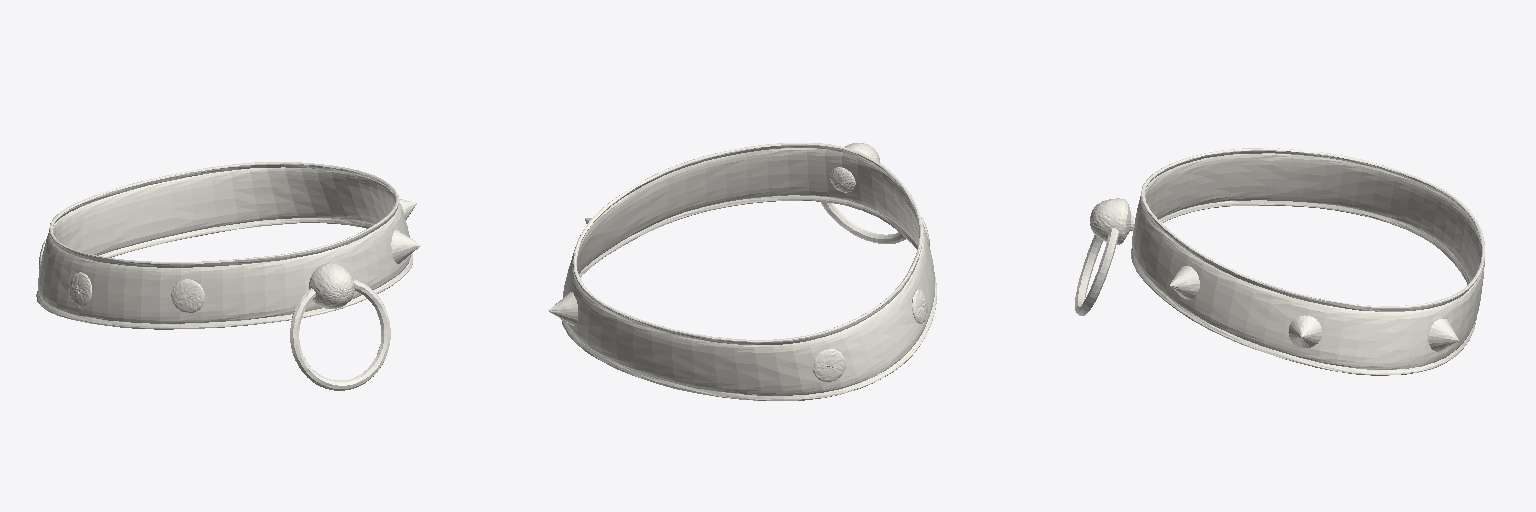
File: collar.obj
The picture shows the model from 3 angles: view 1: azimuth 30°, elevation 25°; view 2: azimuth 150°, elevation 25°; view 3: azimuth 270°, elevation 25°; orthographic projection.
Visible parts, largest first — view 1: collar; view 2: collar; view 3: collar.
Boxes of the visible parts, <box> form: collar: <box>36,162,420,390</box>; collar: <box>548,143,936,400</box>; collar: <box>1075,148,1484,375</box>.
Size of the model in its own units: 0.0963 by 0.0319 by 0.0992.